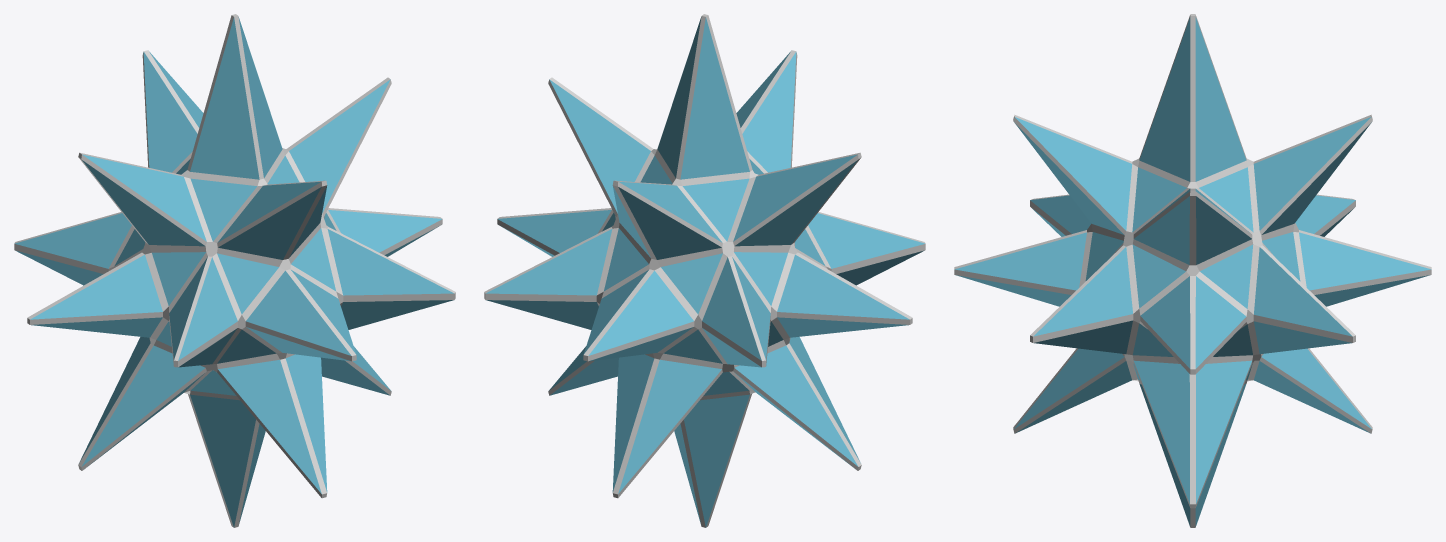
Rendered from boostEye_01.fbx.
The picture shows the model from 3 angles, left to right: view 1: azimuth 30°, elevation 25°; view 2: azimuth 150°, elevation 25°; view 3: azimuth 270°, elevation 25°; orthographic projection.
Visible parts, largest first — view 1: Cylinder; view 2: Cylinder; view 3: Cylinder.
Boxes of the visible parts, bbox=[...] form: Cylinder: bbox=[14, 14, 455, 527]; Cylinder: bbox=[484, 14, 925, 527]; Cylinder: bbox=[954, 14, 1431, 527].
Bounding box in the file's own units: 435 × 514 × 435.
